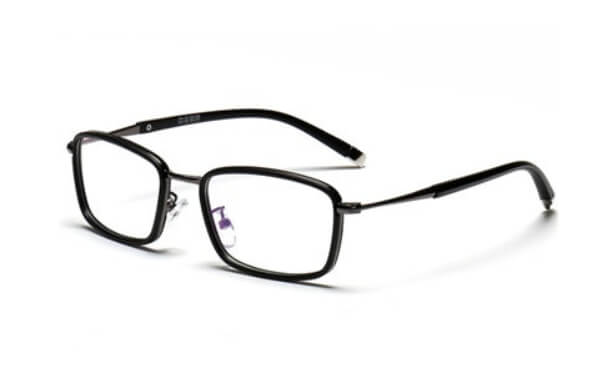glass: (55, 81, 565, 296)
